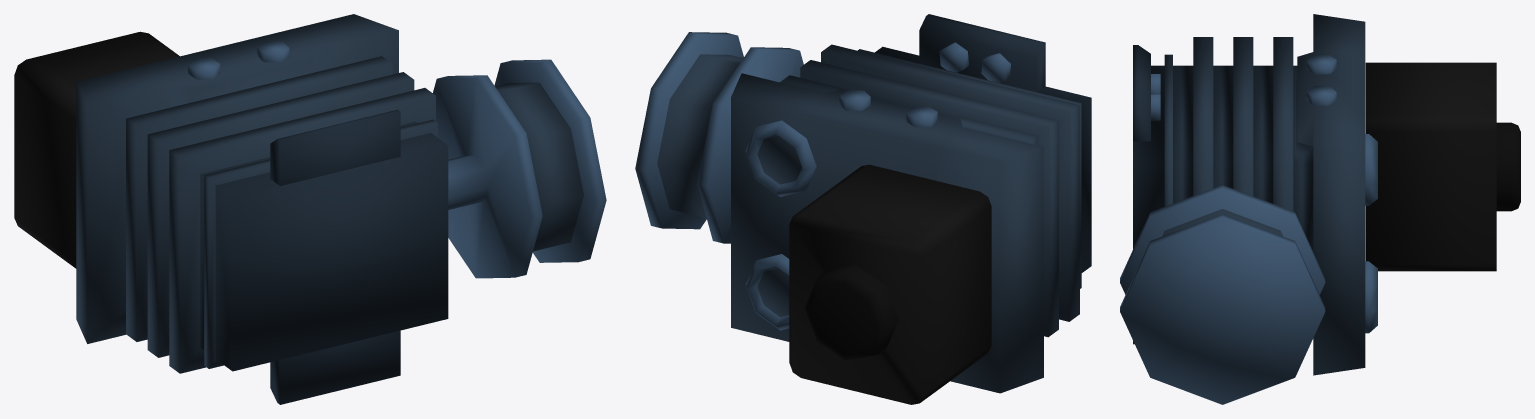
The model's file is Engine1.fbx.
3 renders of one model, left to right at view 1: azimuth 30°, elevation 25°; view 2: azimuth 150°, elevation 25°; view 3: azimuth 270°, elevation 25°, orthographic. The views are drawn at different scales.
Visible parts, largest first — view 1: Engine1; view 2: Engine1; view 3: Engine1.
Part boxes in pixels (x1,y1,x2,y2): Engine1: (14,14,606,404); Engine1: (635,14,1091,404); Engine1: (1120,14,1520,404).
Size of the model in its own units: 0.6303 by 0.383 by 0.5685.
